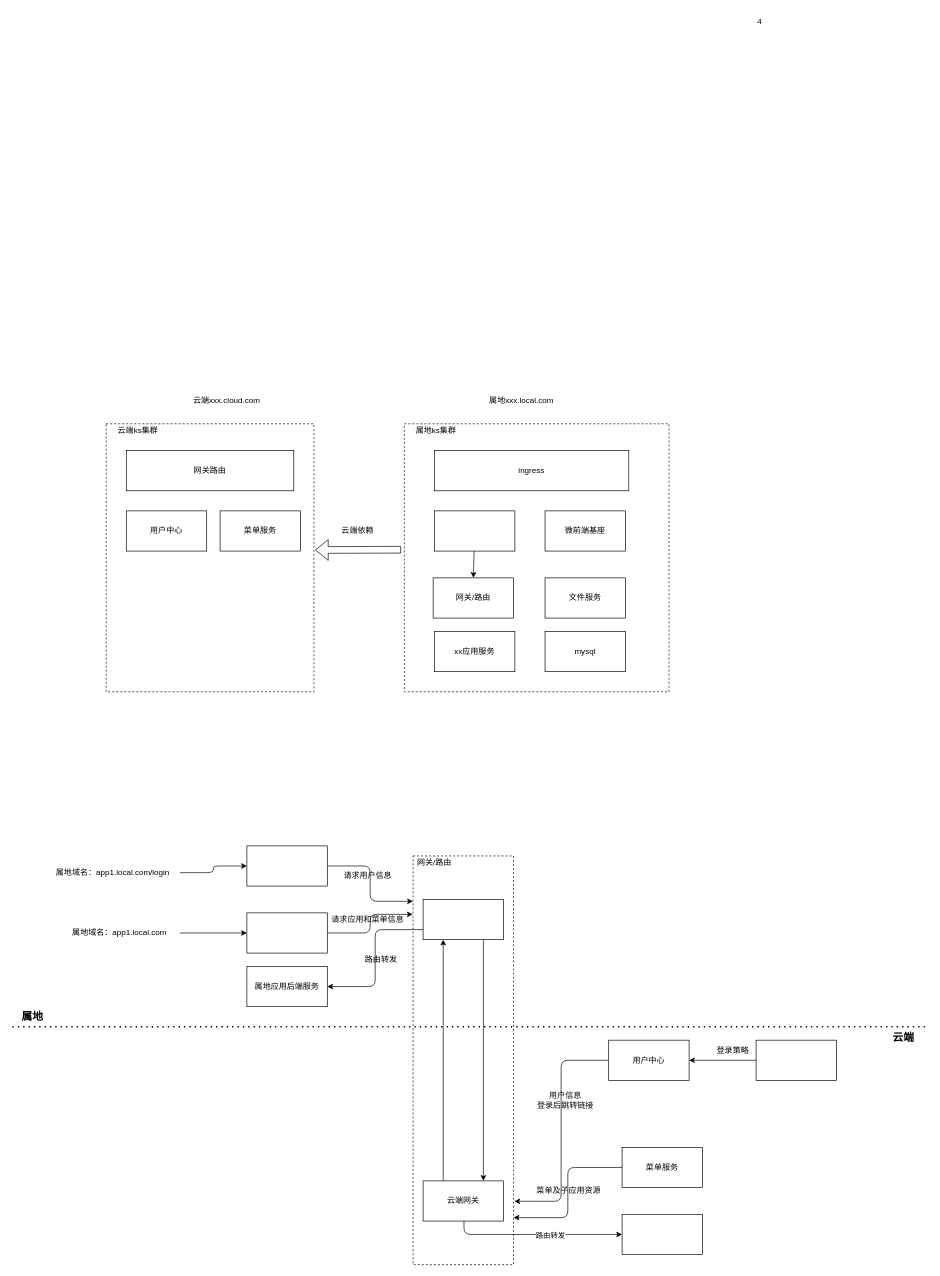
Image size: 940x1276. Some labels were removed from this diagram. Here are the shapes that lost their labels. From the top down, the centre of each, then its label:
At [474,530]: "统一登录页".
At [286,865]: "登录".
At [286,932]: "前端基座".
At [463,919]: "属地网关".
At [795,1060]: "配置中心".
At [661,1234]: "云端应用后端服务".
